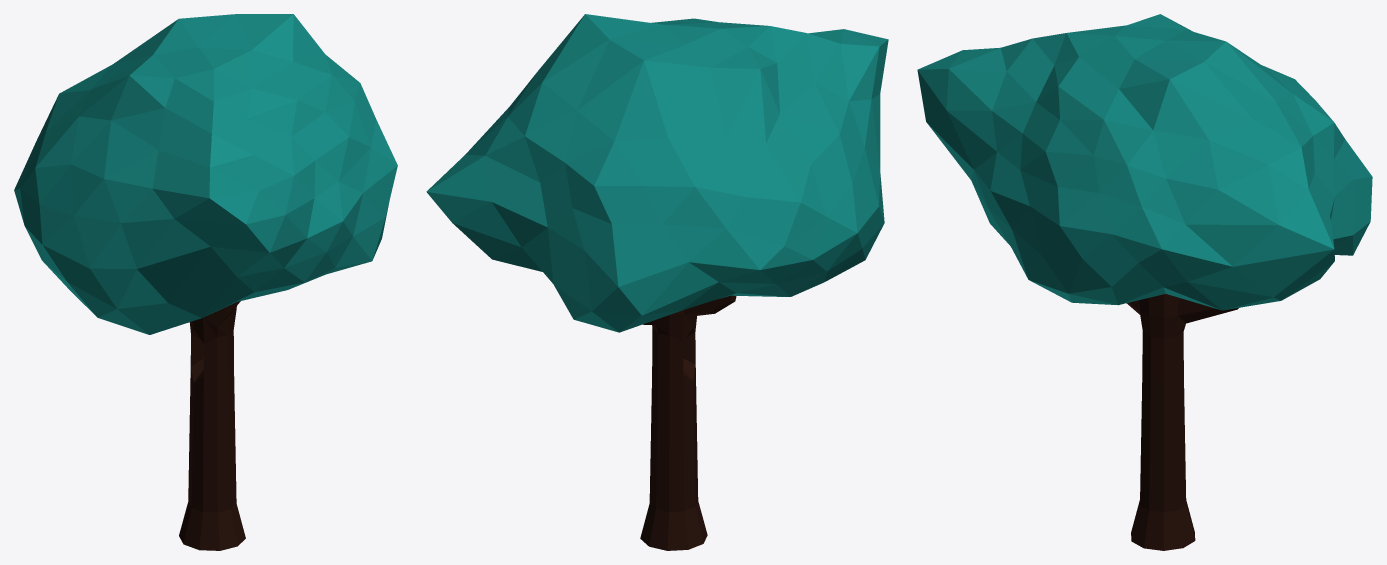
Rendered from t3-cyan.obj.
The picture shows the model from 3 angles, left to right: view 1: azimuth 30°, elevation 25°; view 2: azimuth 150°, elevation 25°; view 3: azimuth 270°, elevation 25°; orthographic projection.
Visible parts, largest first — view 1: t3-cyan_Cylinder.016; view 2: t3-cyan_Cylinder.016; view 3: t3-cyan_Cylinder.016.
Part boxes in pixels (x1,y1,x2,y2): t3-cyan_Cylinder.016: [14, 14, 397, 550]; t3-cyan_Cylinder.016: [426, 14, 888, 550]; t3-cyan_Cylinder.016: [917, 14, 1372, 550].
Bounding box in the file's own units: 6.51 × 9.23 × 7.64.
